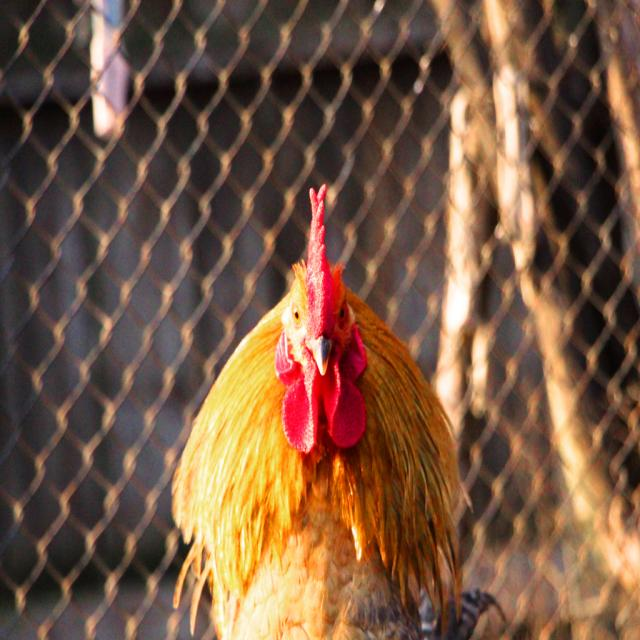Chicken: (182, 191, 460, 627)
